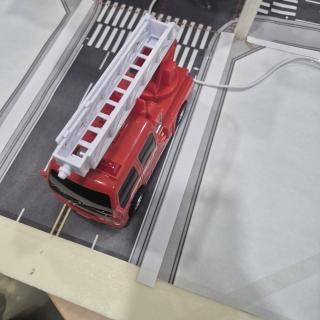Fire_truck: (40, 14, 193, 227)
